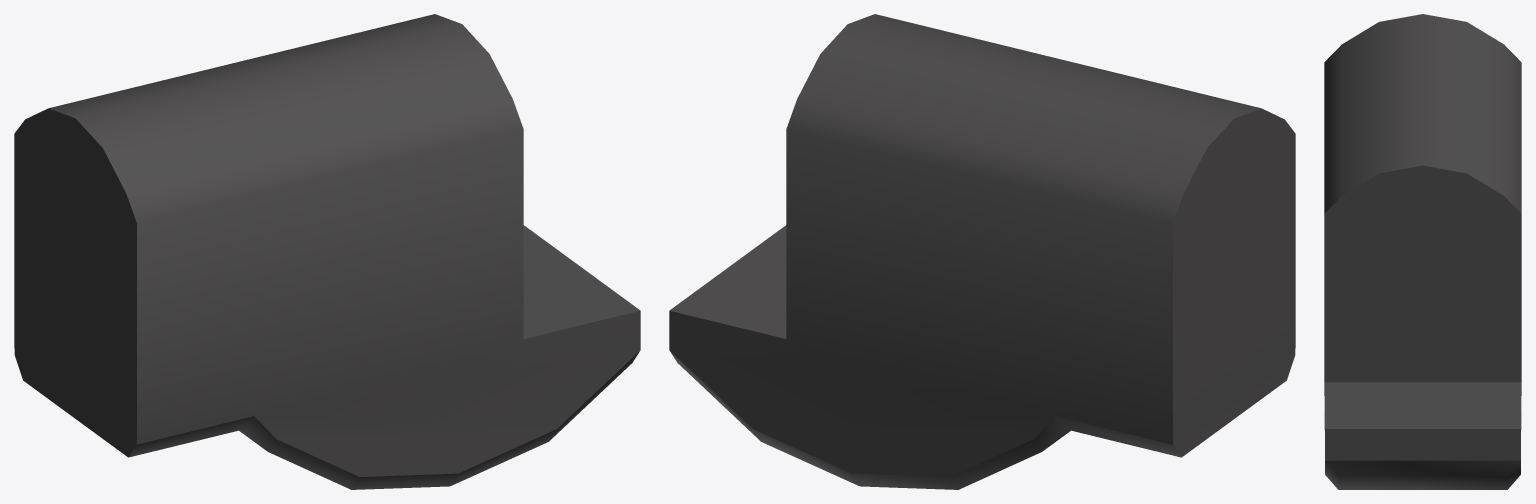
Rendered from RHipRoll.dae.
The picture shows the model from 3 angles, left to right: view 1: azimuth 30°, elevation 25°; view 2: azimuth 150°, elevation 25°; view 3: azimuth 270°, elevation 25°; orthographic projection. The views are drawn at different scales.
Visible parts, largest first — view 1: RHipRoll; view 2: RHipRoll; view 3: RHipRoll.
Boxes of the visible parts, x1,y1,x2,y2 form: RHipRoll: (14,14,640,489); RHipRoll: (669,14,1295,489); RHipRoll: (1324,14,1521,489).
Bounding box in the file's own units: 0.6688 × 0.2822 × 0.5172.
Materials: 1 (1 with a texture image).
